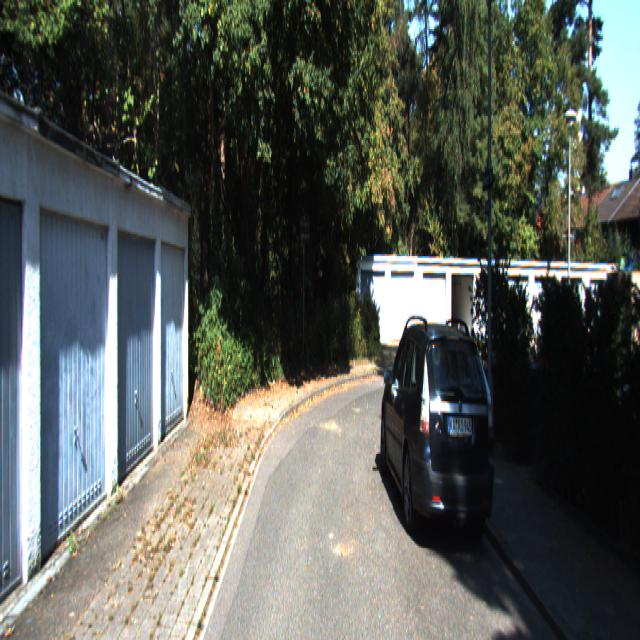Car: (378, 318, 499, 554)
